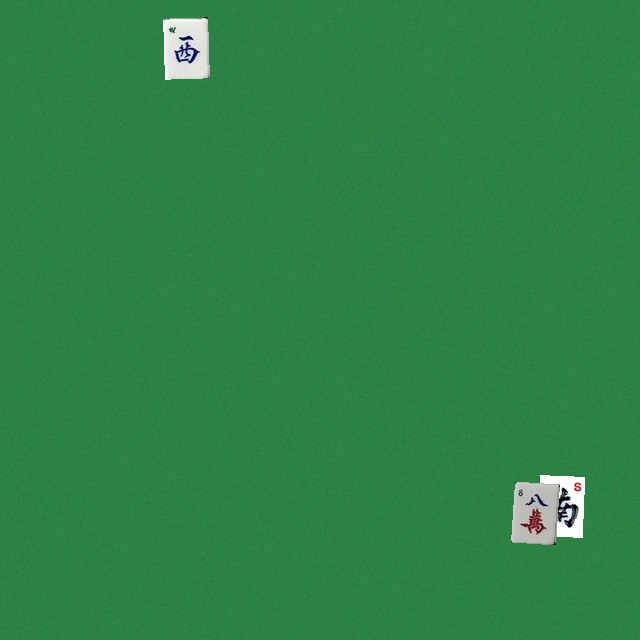tile: (163, 17, 208, 78), (537, 475, 582, 536), (511, 481, 556, 542)
